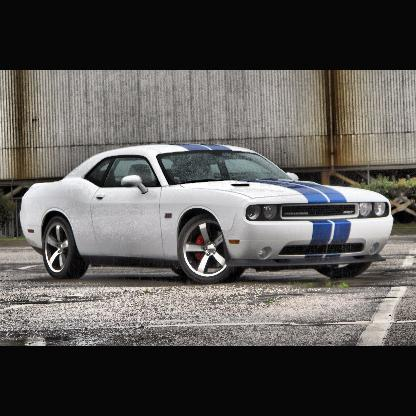Dodge Challenger SRT8 2011: (19, 142, 394, 284)
